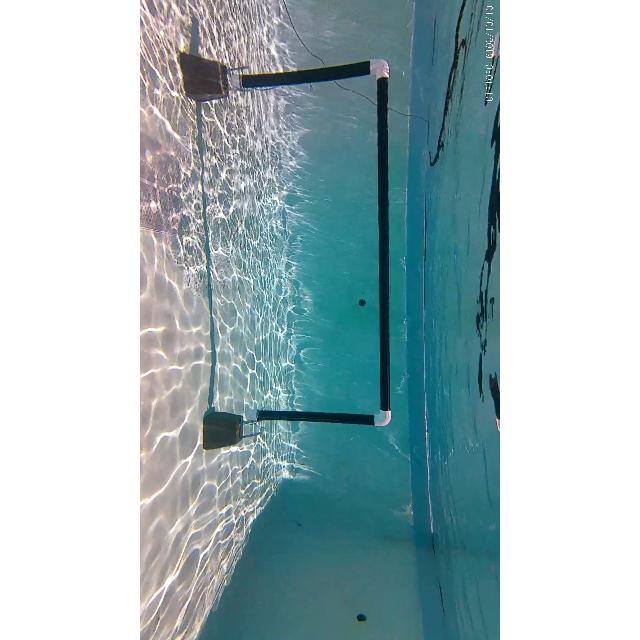prequal gate: (226, 58, 392, 430)
prequal gate leg l: (220, 59, 398, 95)
prequal gate leg r: (238, 406, 402, 430)
